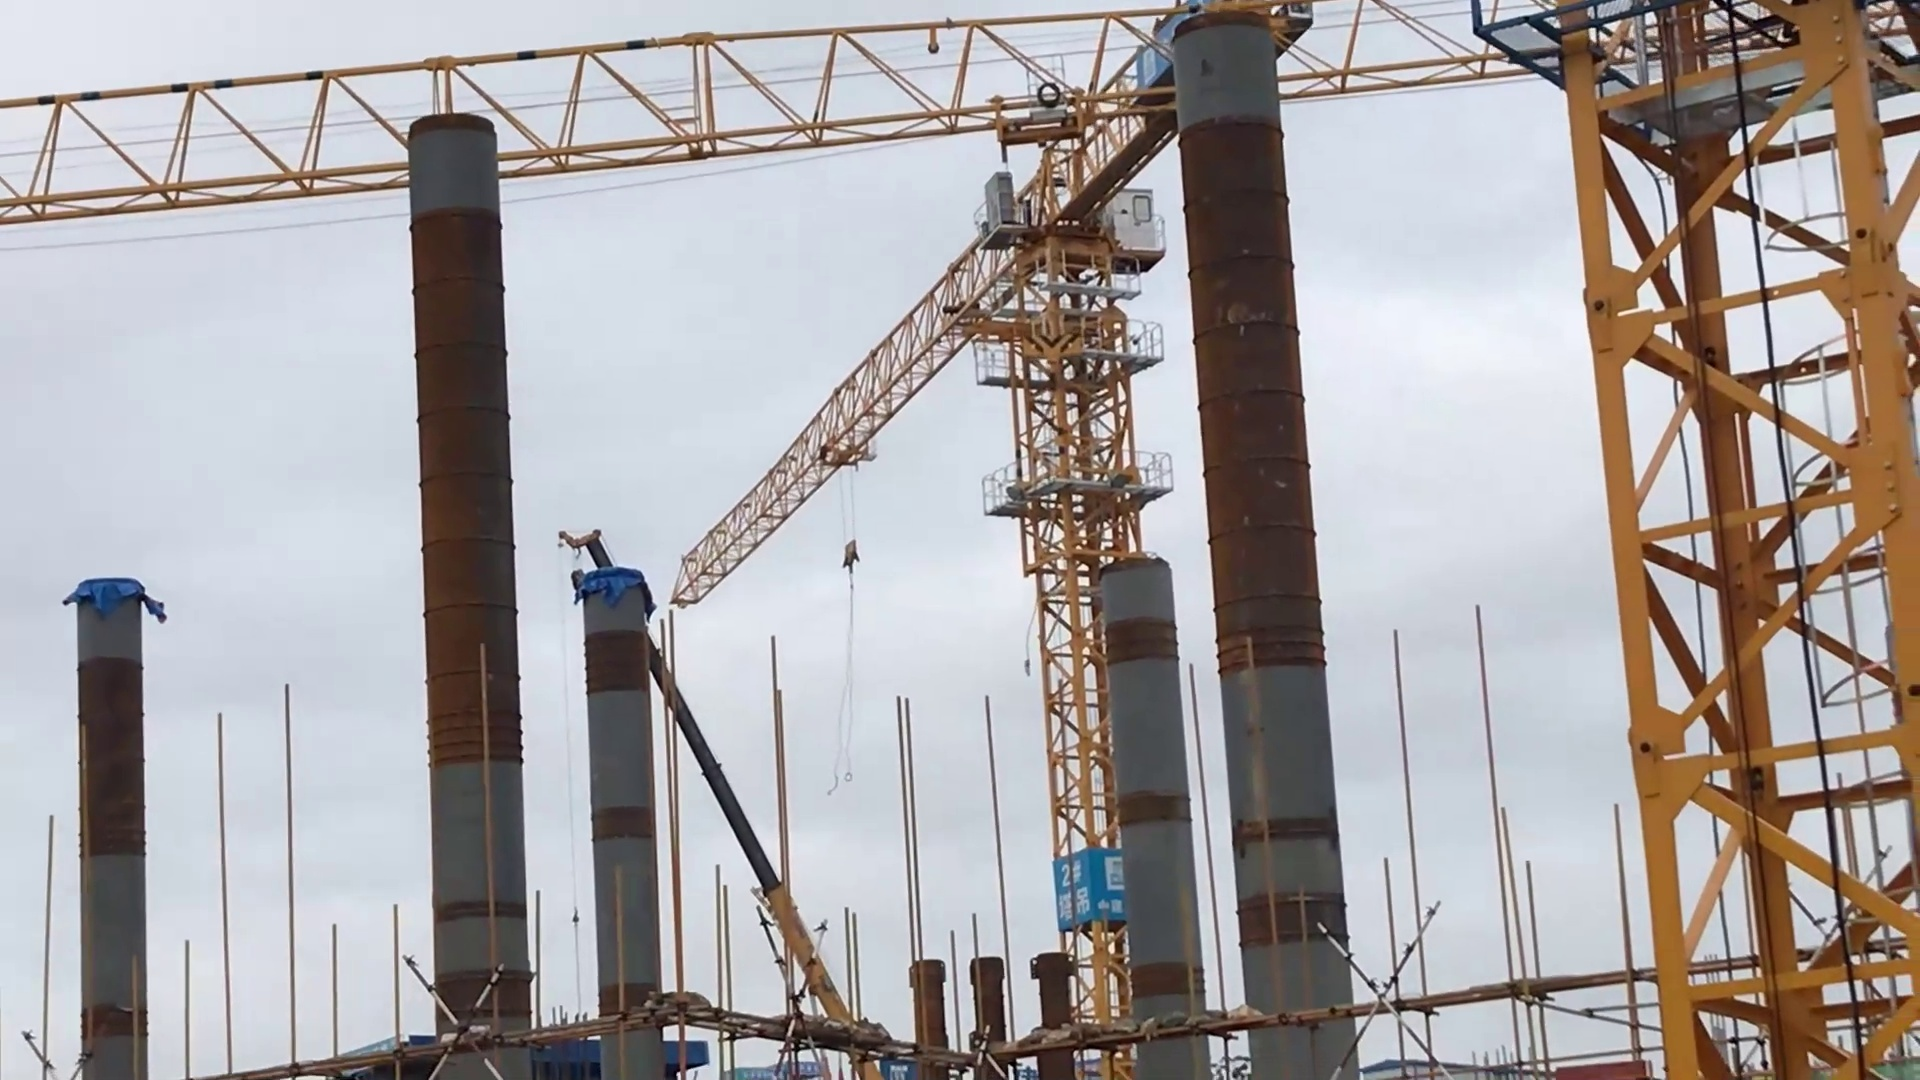hook: (832, 533, 865, 570)
